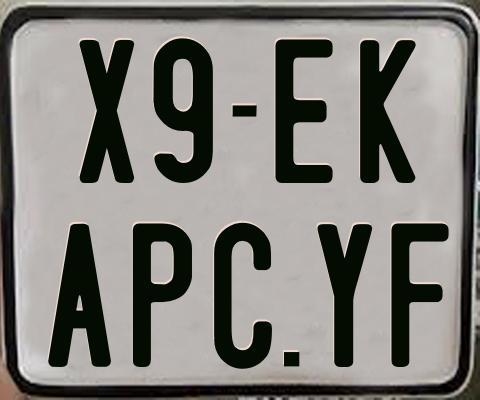9: (151, 37, 211, 182)
A: (47, 221, 111, 365)
C: (214, 222, 277, 372)
E: (275, 39, 339, 185)
F: (389, 221, 449, 371)
K: (357, 38, 416, 183)
P: (133, 223, 198, 373)
X: (79, 40, 140, 189)
Y: (314, 223, 372, 369)
